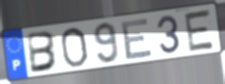3: (155, 13, 181, 56)
9: (91, 21, 121, 66)
B: (26, 30, 60, 75)
E: (120, 16, 155, 62), (182, 8, 216, 54)
O: (59, 25, 90, 69)
